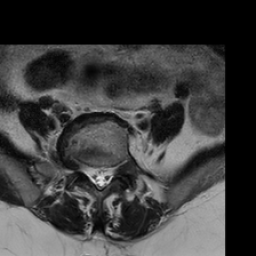CCS_normal: (96, 157, 105, 193)
LFS_normal: (113, 153, 122, 173)
LLS_normal: (105, 160, 114, 185)
RFS_normal: (76, 156, 86, 180)
RLS_normal: (86, 158, 96, 189)
